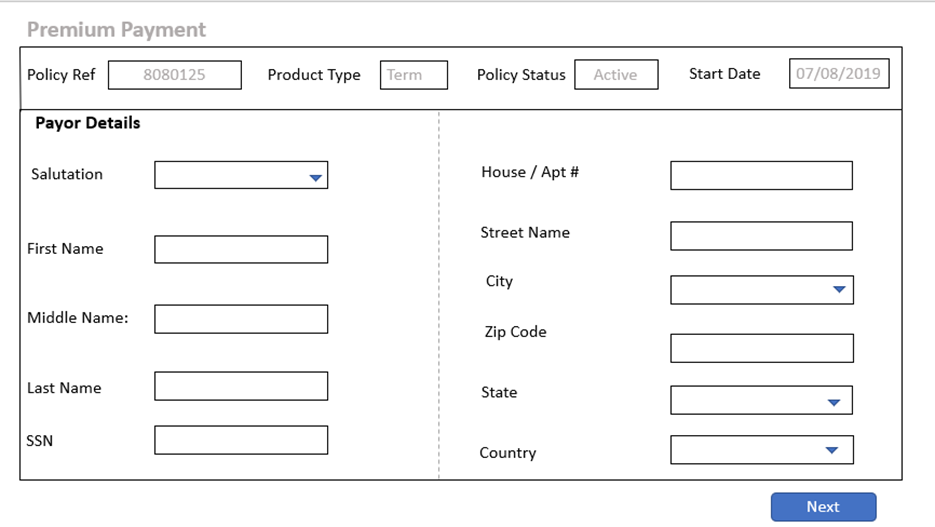button: (765, 486, 888, 527)
